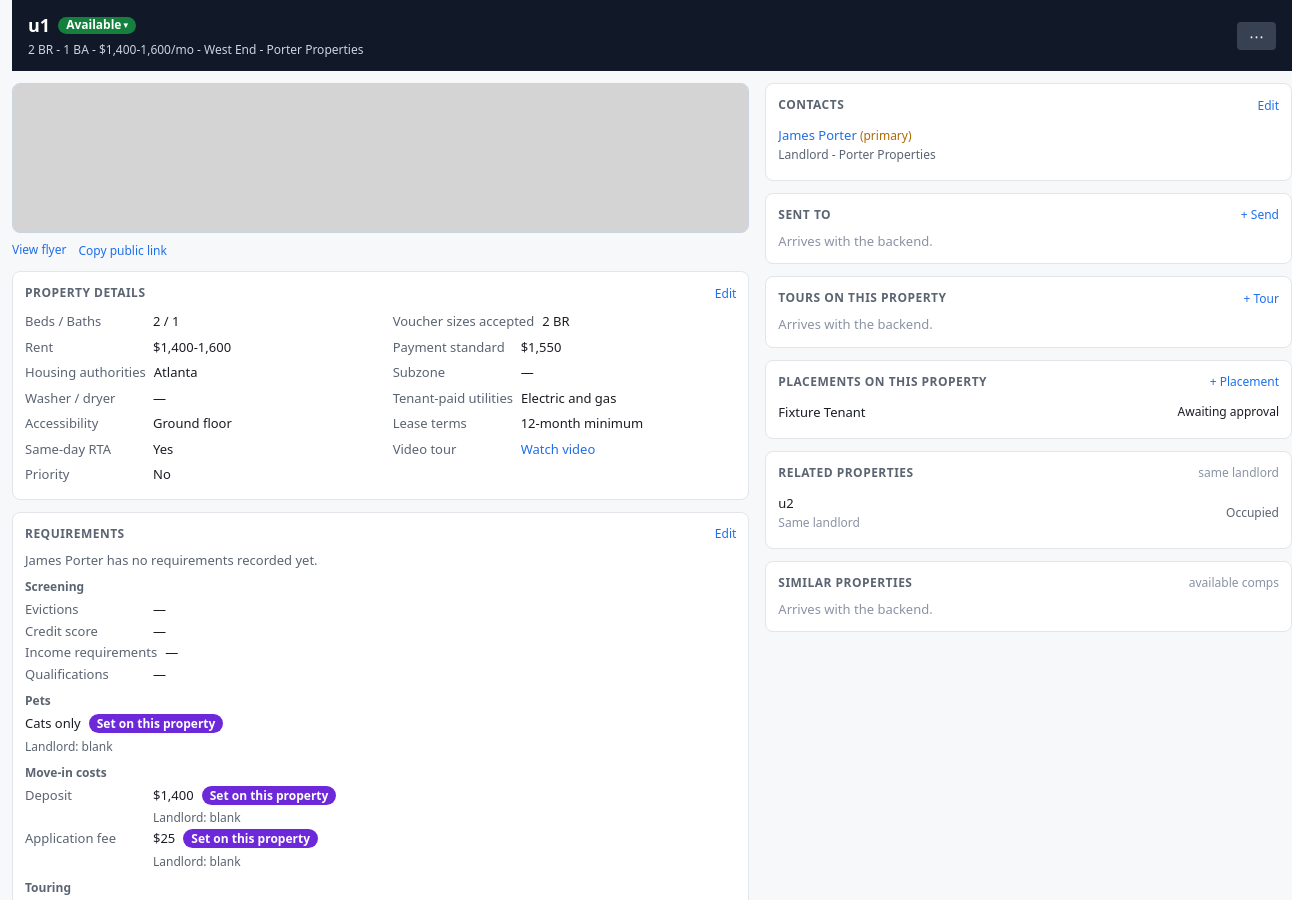
ListingDetail › the More actions menu holds Start placement + Send this property (moved off the hero)
Expected: the button "Start placement" is not shown
Expected: the number of buttons named "Send this property" is 1, [1241,206,1279,223]
Both live in the More actions menu (spec 2026-10-06 D22: neutral words).
Click the button named "More actions".
click(1256, 36)  # box [1237,22,1276,50]
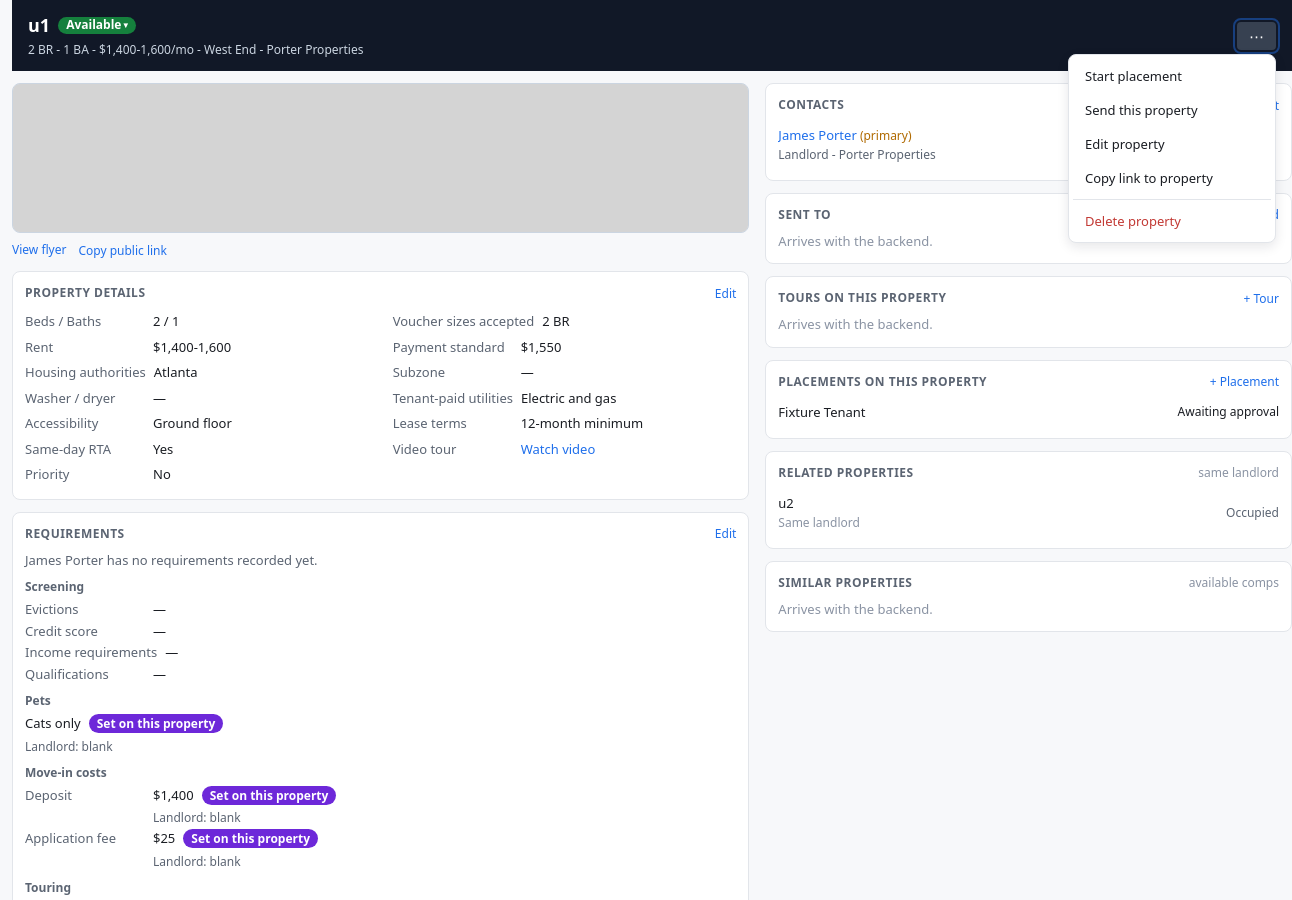
Result: the menu item "Start placement" is shown at [1073,58,1271,92]
Result: the menu item "Send this property" is shown at [1073,92,1271,126]
